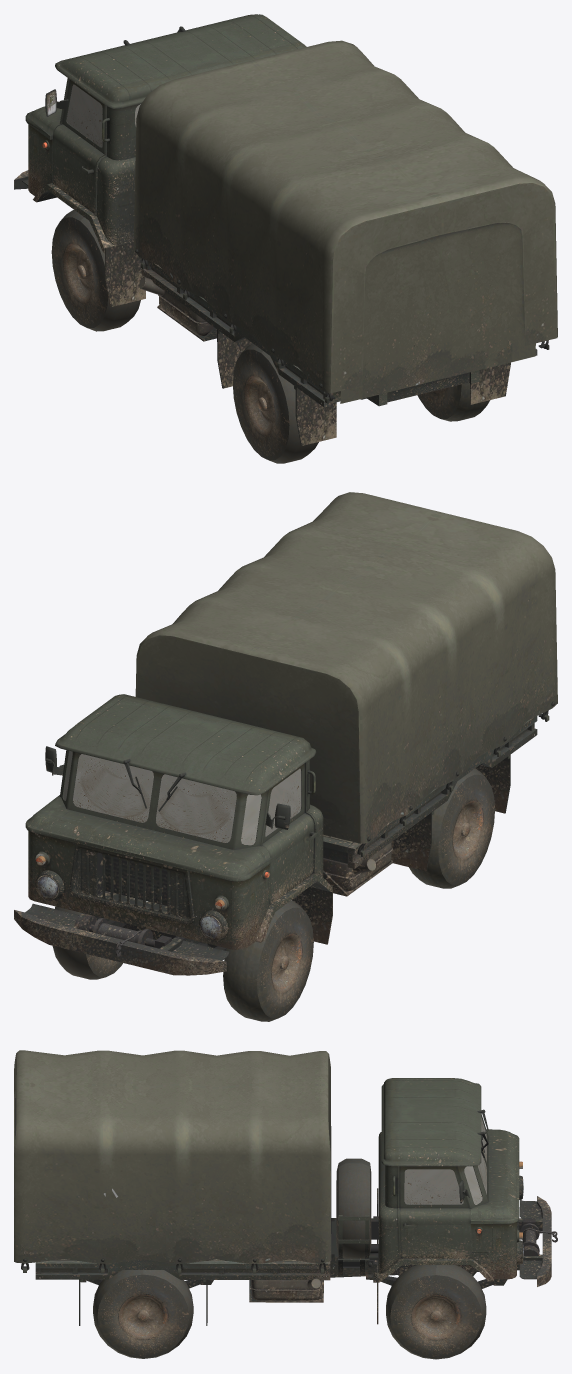
File: gaz66back.fbx
The picture shows the model from 3 angles, top to bottom: view 1: azimuth 30°, elevation 25°; view 2: azimuth 150°, elevation 25°; view 3: azimuth 270°, elevation 25°; orthographic projection. The views are drawn at different scales.
Visible parts, largest first — view 1: DrawCall_1096, DrawCall_1077, DrawCall_1097, DrawCall_1101, DrawCall_1079, DrawCall_1081, DrawCall_1099, DrawCall_1226, DrawCall_1078; view 2: DrawCall_1096, DrawCall_1077, DrawCall_1226, DrawCall_1101, DrawCall_1078, DrawCall_1097, DrawCall_1079, DrawCall_1081, DrawCall_1098; view 3: DrawCall_1096, DrawCall_1077, DrawCall_1098, DrawCall_1099, DrawCall_1081, DrawCall_1078, DrawCall_1080, DrawCall_1100, DrawCall_1226.
Part boxes in pixels (bbox=[...]): DrawCall_1096: bbox=[133, 40, 557, 403]; DrawCall_1077: bbox=[25, 14, 510, 445]; DrawCall_1097: bbox=[232, 343, 318, 463]; DrawCall_1101: bbox=[51, 210, 140, 331]; DrawCall_1079: bbox=[45, 80, 104, 213]; DrawCall_1081: bbox=[141, 260, 537, 407]; DrawCall_1099: bbox=[417, 382, 490, 421]; DrawCall_1226: bbox=[67, 84, 140, 147]; DrawCall_1078: bbox=[14, 170, 479, 406]; DrawCall_1096: bbox=[135, 492, 557, 856]; DrawCall_1077: bbox=[25, 694, 510, 956]; DrawCall_1226: bbox=[63, 751, 301, 845]; DrawCall_1101: bbox=[223, 900, 313, 1021]; DrawCall_1078: bbox=[14, 903, 229, 975]; DrawCall_1097: bbox=[409, 768, 494, 888]; DrawCall_1079: bbox=[262, 763, 317, 904]; DrawCall_1081: bbox=[323, 716, 537, 868]; DrawCall_1098: bbox=[52, 906, 122, 979]; DrawCall_1096: bbox=[14, 1050, 331, 1273]; DrawCall_1077: bbox=[79, 1078, 557, 1325]; DrawCall_1098: bbox=[386, 1265, 486, 1359]; DrawCall_1099: bbox=[93, 1270, 193, 1358]; DrawCall_1081: bbox=[35, 1259, 330, 1280]; DrawCall_1078: bbox=[81, 1196, 551, 1288]; DrawCall_1080: bbox=[399, 1166, 470, 1258]; DrawCall_1100: bbox=[336, 1158, 371, 1258]; DrawCall_1226: bbox=[404, 1117, 486, 1204].
Bounding box in the file's own units: 356 × 409 × 847.
